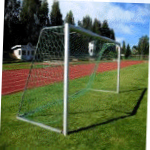goals: (13, 21, 124, 137)
